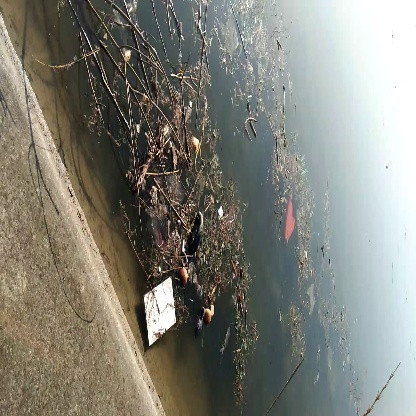plastic-garbage: (140, 267, 184, 358)
